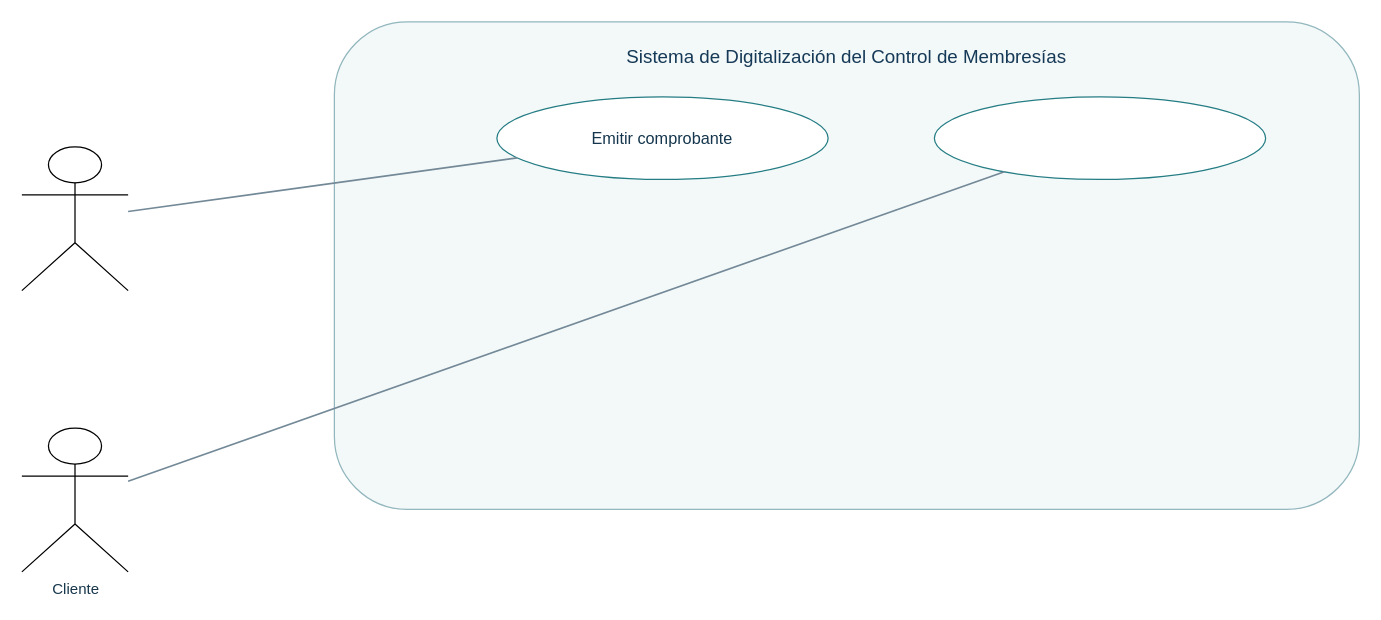
The diagram is 1381 pixels wide and 620 high, and some of its shapes have lost their labels. The shapes that lost their labels are listed below. From the top down, each one's centre as x and y in pixels, then its label:
At point (1099, 137): "Entregar comprobante".
At point (74, 218): "Recepcionista".
